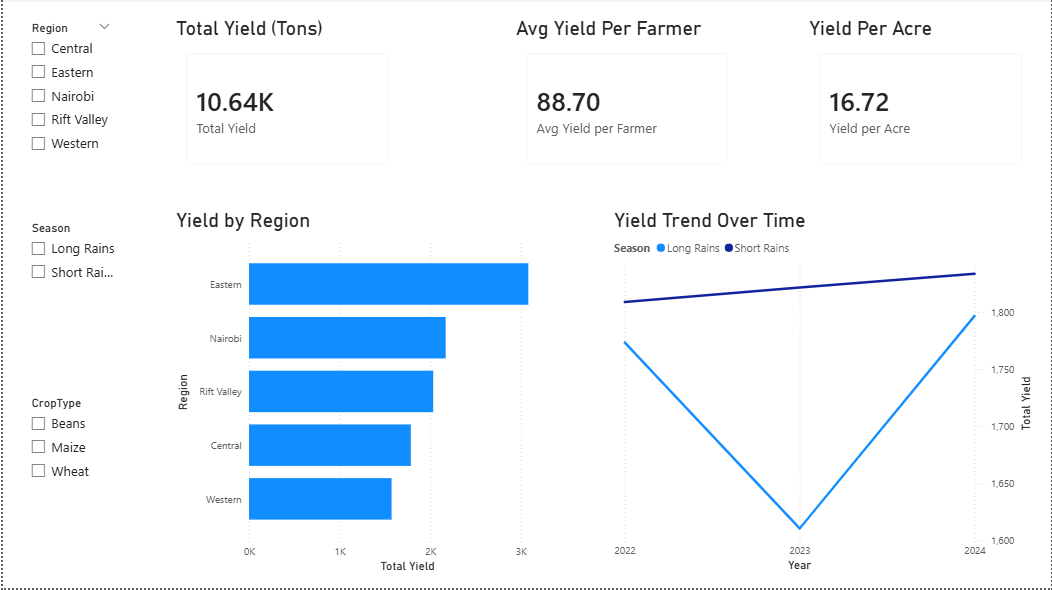

The page's visual inventory and layout, read from the dashboard file:
{"tool":"powerbi","page":{"name":"Overview","canvas":[1280,720],"ordinal":0},"visuals":[{"type":"cardVisual","title":"Total Yield (Tons)","fields":{"Data":["Production.Total Yield"]},"box":[206.6,23.5,280.5,196.5],"z":0},{"type":"cardVisual","title":"Avg Yield Per Farmer","fields":{"Data":["Farmers.Avg Yield per Farmer"]},"box":[621.5,23.5,280.5,196.5],"z":1000},{"type":"cardVisual","title":"Yield Per Acre","fields":{"Data":["Farmers.Yield per Acre"]},"box":[979.3,23.5,282.2,196.5],"z":2000},{"type":"lineChart","title":"Yield Trend Over Time","fields":{"Category":["Production.Year"],"Y2":["Production.Total Yield"],"Series":["Production.Season"]},"box":[740.7,257.5,519.9,447.9],"z":3000},{"type":"slicer","fields":{"Values":["Farmers.Region"]},"box":[22,23.2,120.8,196.5],"z":4000},{"type":"slicer","fields":{"Values":["Production.Season"]},"box":[22,267.3,120.8,140.3],"z":5000},{"type":"slicer","fields":{"Values":["Production.CropType"]},"box":[22,480.8,120.8,136.7],"z":6000},{"type":"clusteredBarChart","title":"Yield by Region","fields":{"Category":["Farmers.Region"],"Y":["Production.Total Yield"]},"box":[206.2,257.5,493,449.1],"z":7000}]}

Visuals, with their boxes in screenshot pixels (x1, y1, x2, y2), scaled from the page's 1280x720 canvas onto the 1052x590 screenshot:
"Total Yield (Tons)" cardVisual: detection(170, 19, 400, 180)
"Avg Yield Per Farmer" cardVisual: detection(511, 19, 741, 180)
"Yield Per Acre" cardVisual: detection(805, 19, 1037, 180)
"Yield Trend Over Time" lineChart: detection(609, 211, 1036, 578)
slicer - Farmers.Region: detection(18, 19, 117, 180)
slicer - Production.Season: detection(18, 219, 117, 334)
slicer - Production.CropType: detection(18, 394, 117, 506)
"Yield by Region" clusteredBarChart: detection(169, 211, 575, 579)
